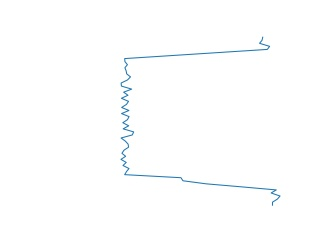distributaryChannelFill: (113, 36, 283, 206)
